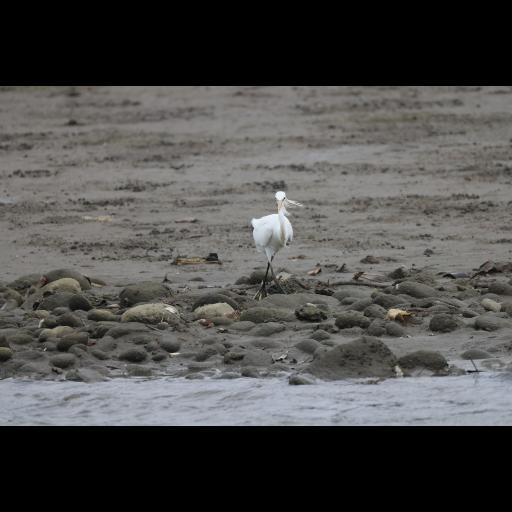chinese_egret: (250, 191, 304, 303)
